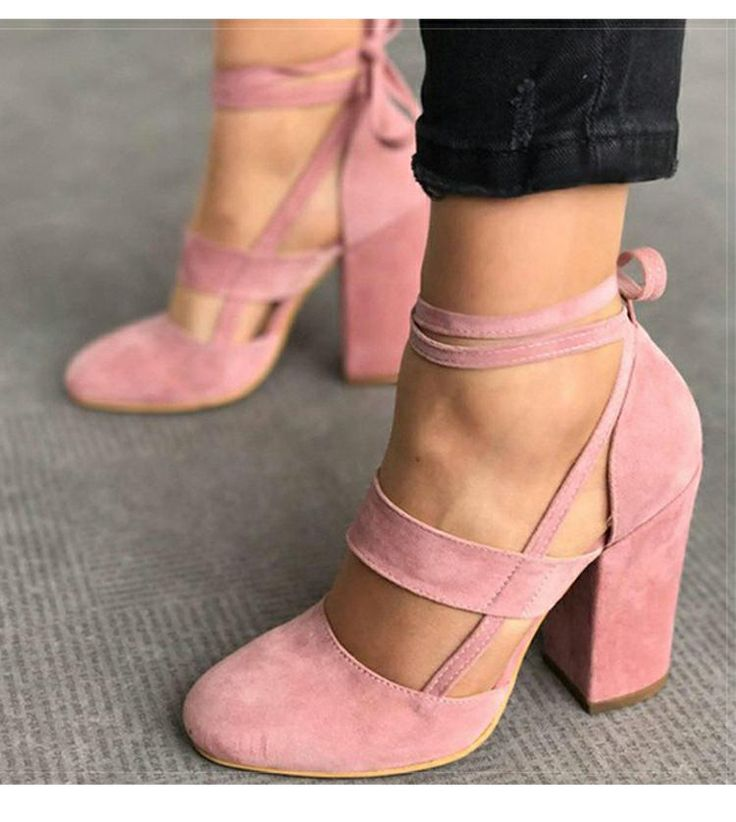gamuza: (182, 322, 704, 773)
